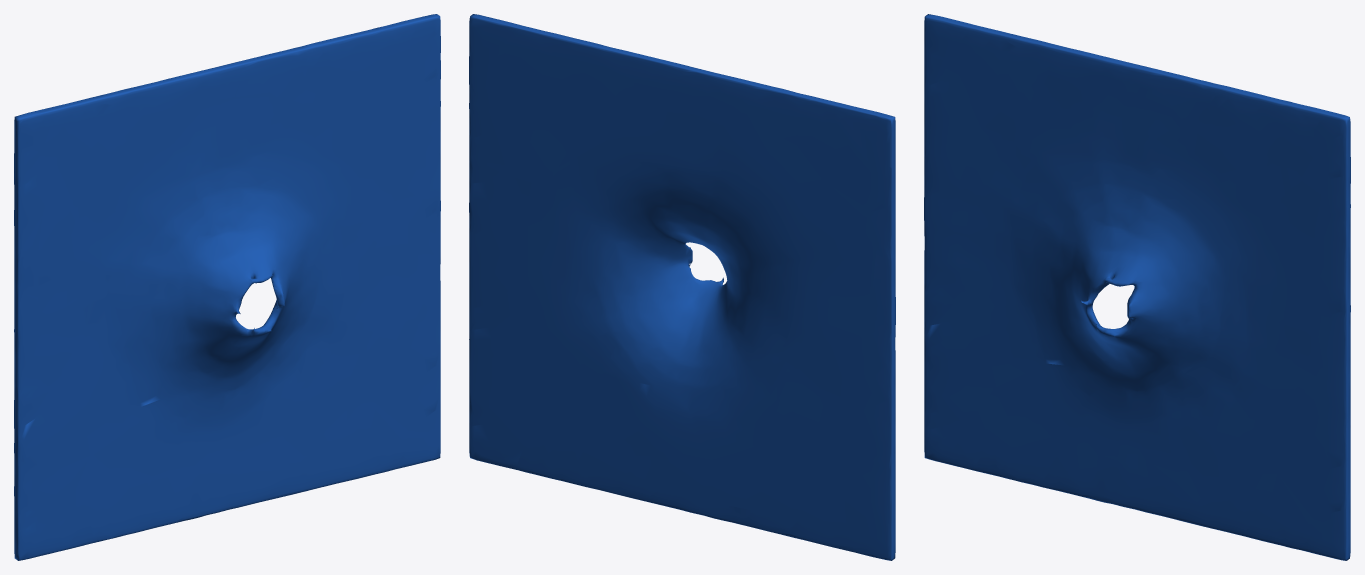
The model's file is METAL06.fbx.
3 renders of one model, left to right at view 1: azimuth 30°, elevation 25°; view 2: azimuth 150°, elevation 25°; view 3: azimuth 330°, elevation 25°, orthographic.
Visible parts, largest first — view 1: metal06; view 2: metal06; view 3: metal06.
Boxes of the visible parts, left/top/right/bottom form: metal06: left=14, top=14, right=440, bottom=560; metal06: left=469, top=14, right=895, bottom=560; metal06: left=924, top=14, right=1350, bottom=560.
Size of the model in its own units: 4.99 by 4.99 by 0.7513.
